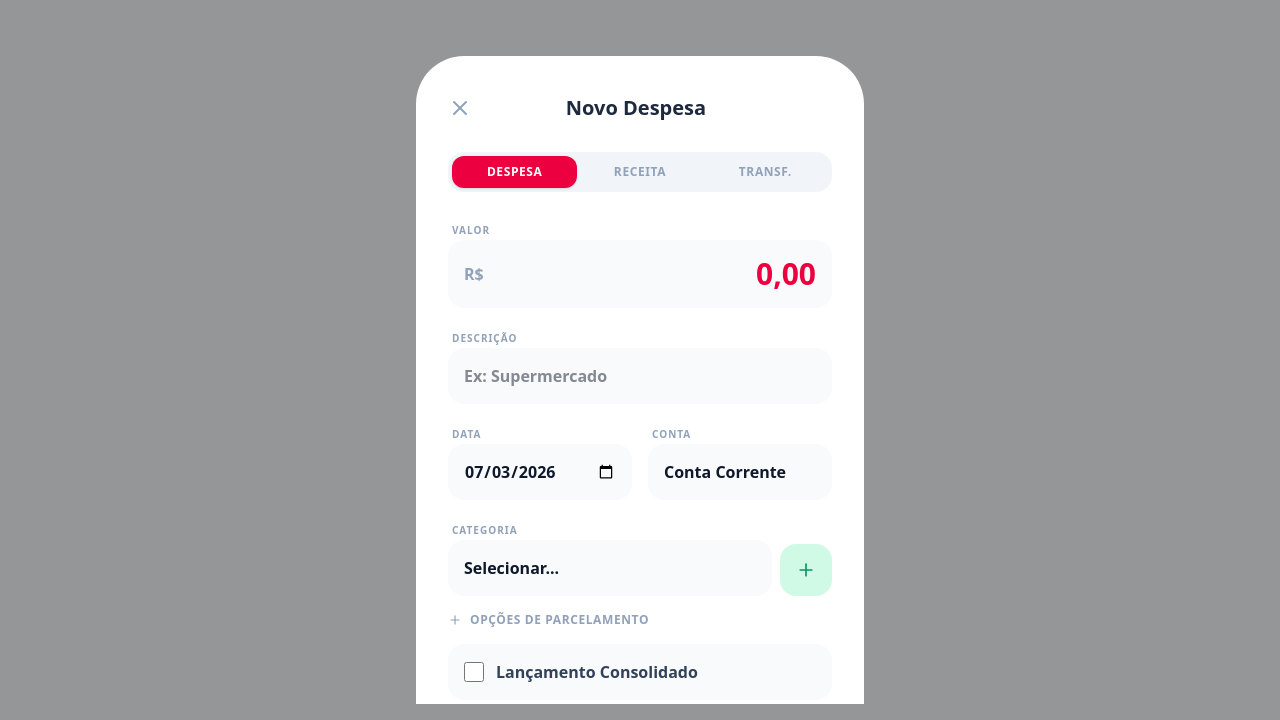
Test case: TransactionModal - Installment Total Calculation › shows total calculation when installments is greater than 1
Click the button "Opções de Parcelamento" at (548, 620), box [448,612,649,628]
(page scrolled)
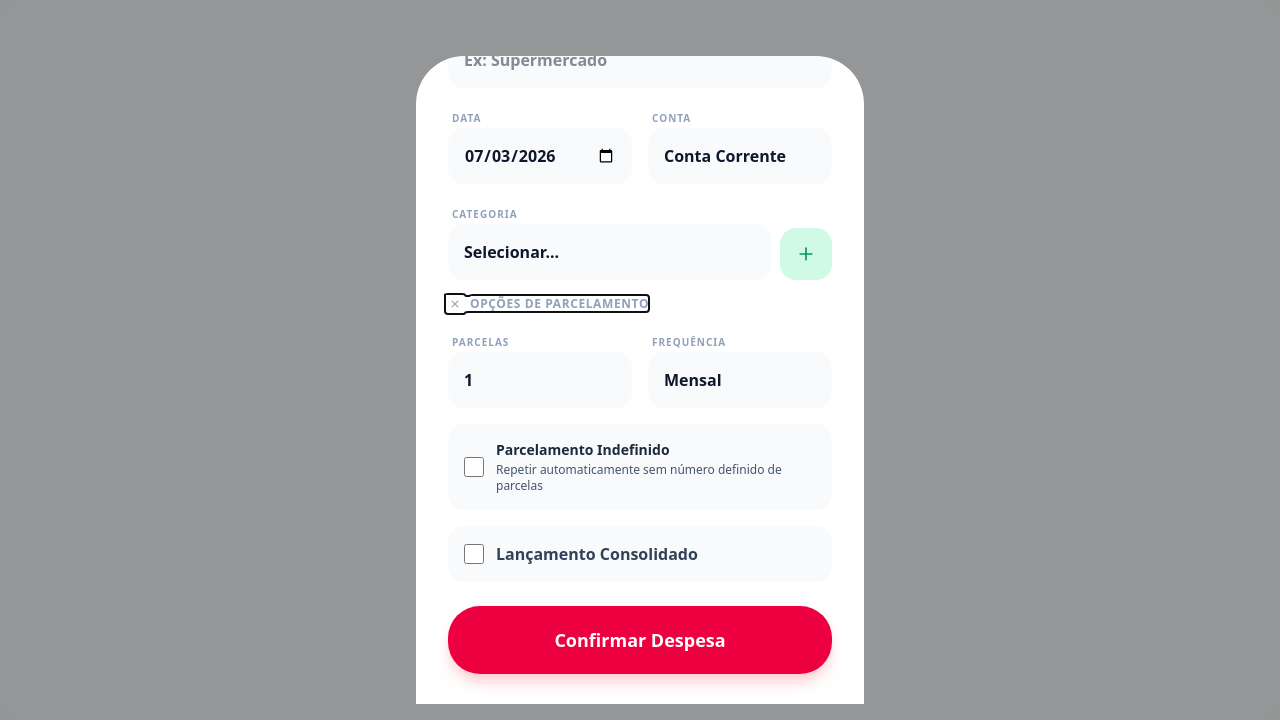
Replace the text in the number field labelled "Parcelas" with "3" at (540, 380), box [448,352,632,408]
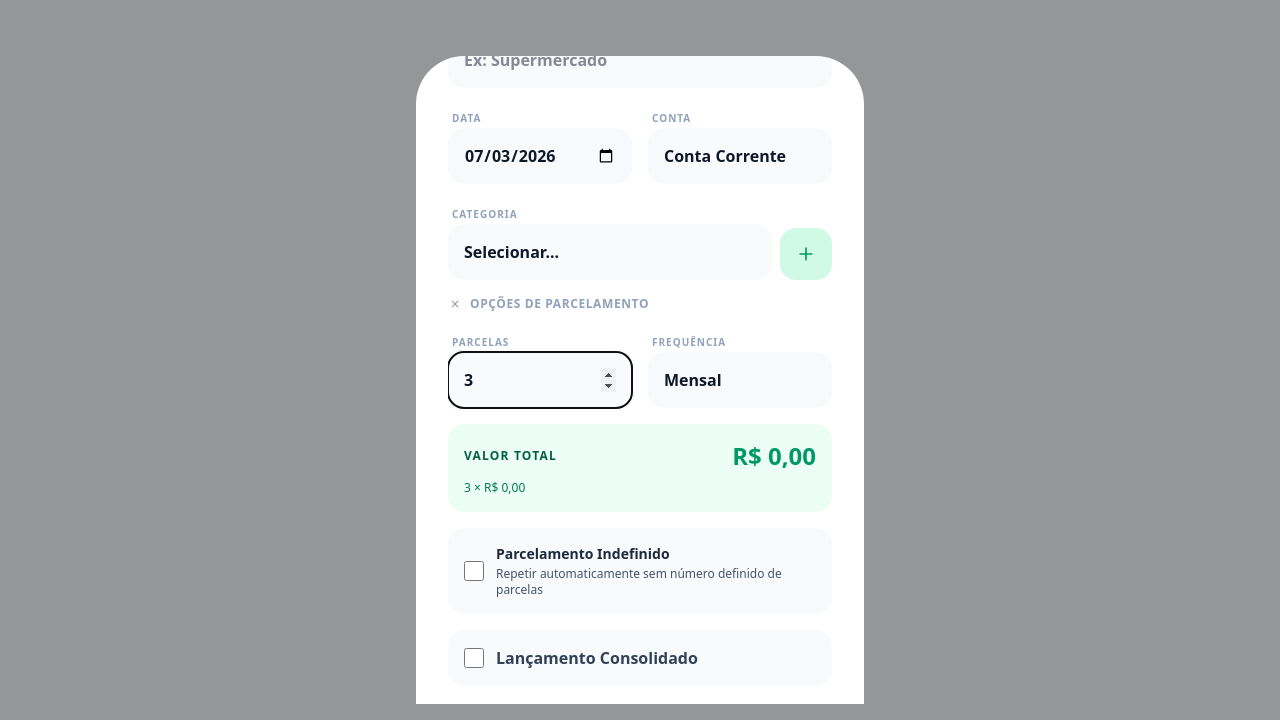
Now the text "Valor Total" is shown, box [464,448,557,464]
